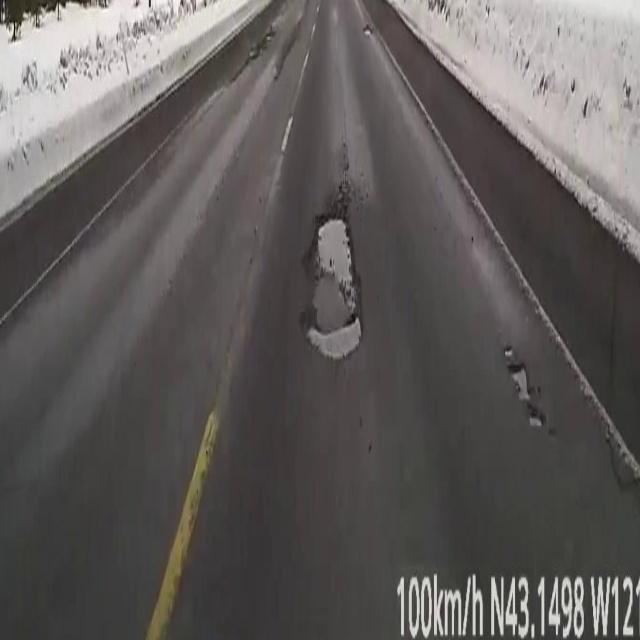pothole: (302, 214, 362, 358), (504, 347, 544, 427)
